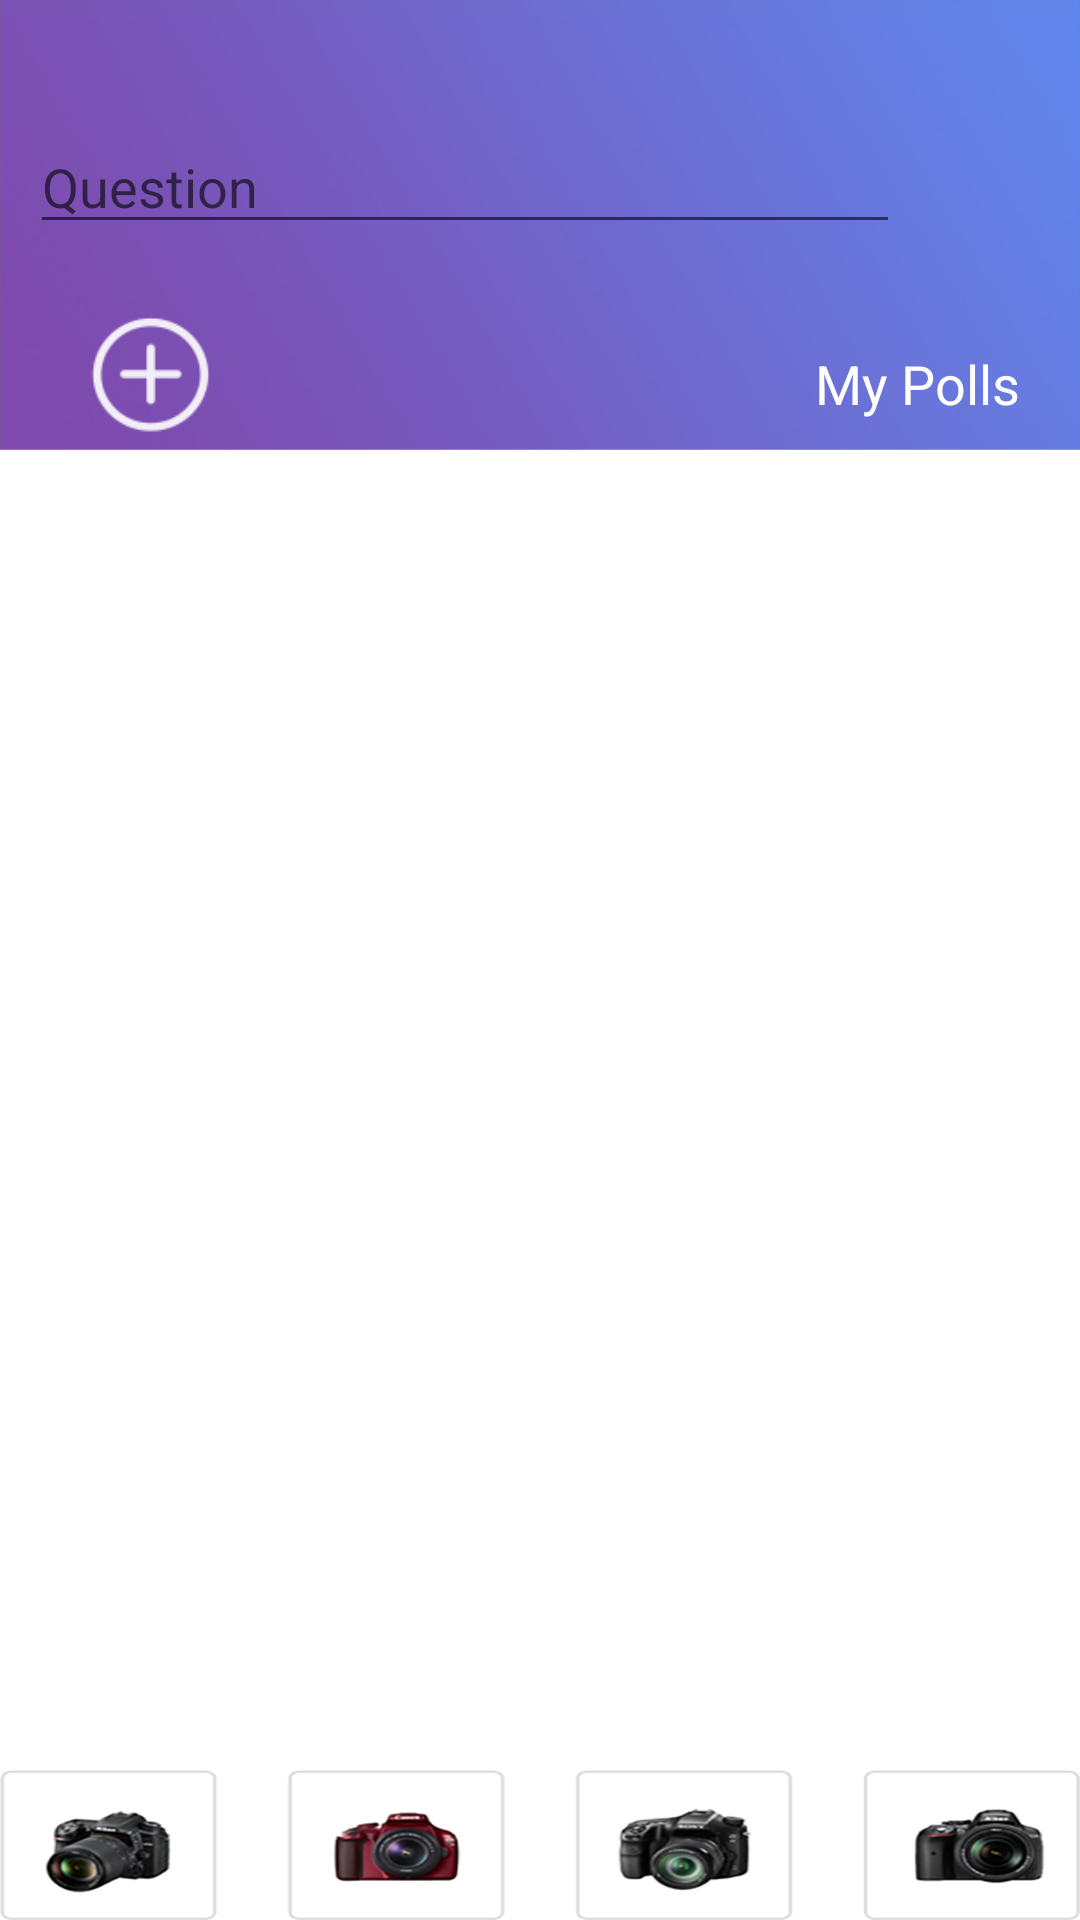

Named icons in this screenshot (1080 × 1920) and their bounding boxes, (x1, y1, x2, y2):
add poll: (92, 318, 209, 432)
